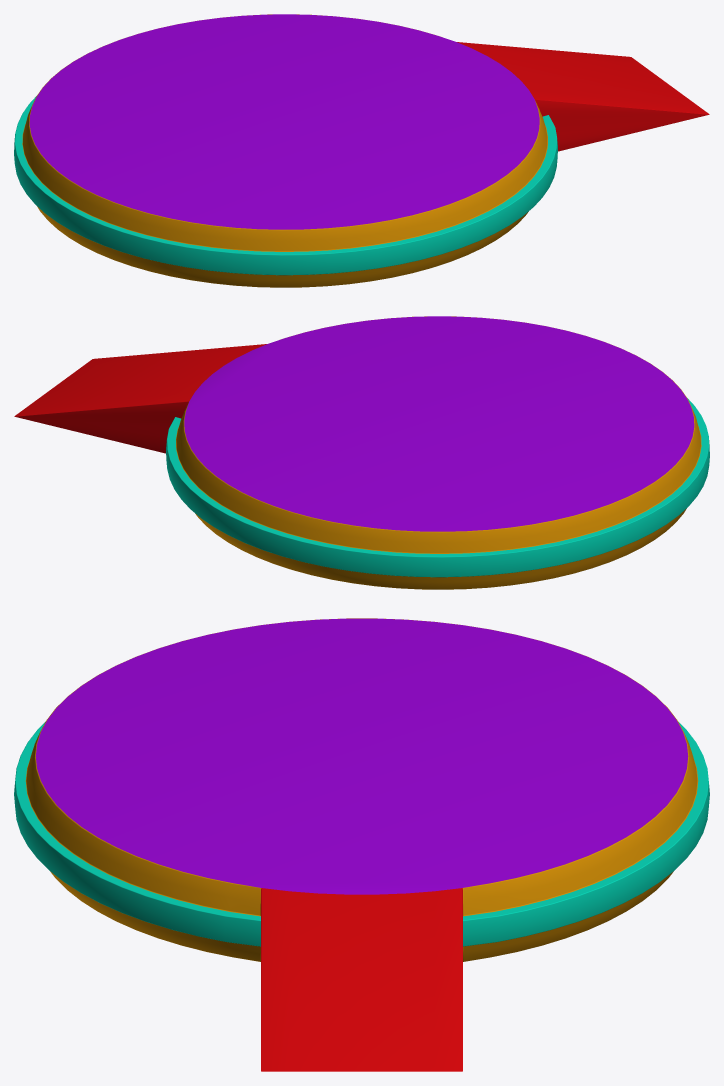
Rendered from base_portal.fbx.
3 views of the same model, one above another, from view 1: azimuth 30°, elevation 25°; view 2: azimuth 150°, elevation 25°; view 3: azimuth 270°, elevation 25° (orthographic). The views are drawn at different scales.
Visible parts, largest first — view 1: Base_Portal; view 2: Base_Portal; view 3: Base_Portal.
Part boxes in pixels (<box>): Base_Portal: <box>14,14,709,287</box>; Base_Portal: <box>14,316,709,589</box>; Base_Portal: <box>14,618,709,1071</box>.
Size of the model in its own units: 1121 by 100 by 851.
